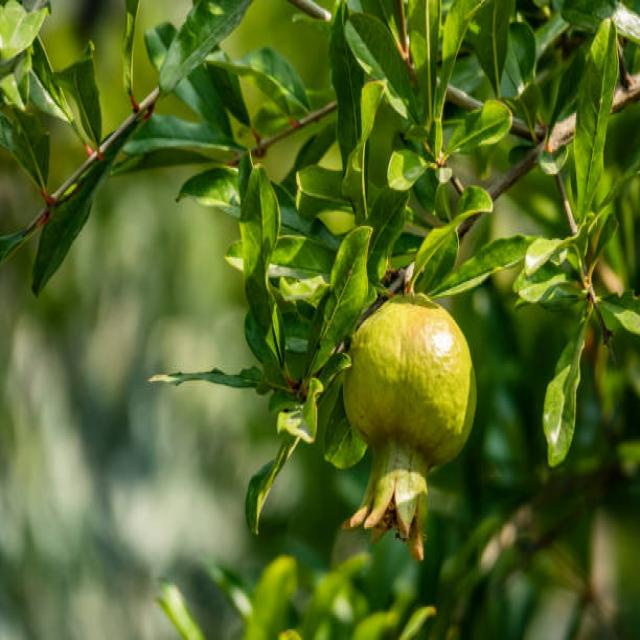Unripe: (344, 288, 480, 563)
